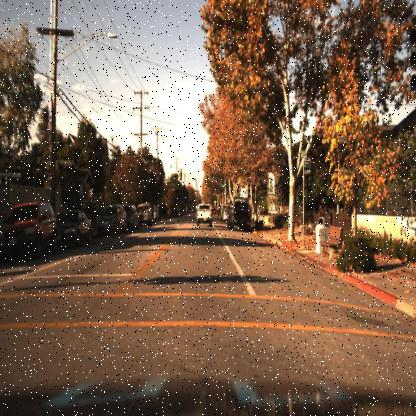car: (1, 200, 57, 266), (52, 206, 96, 256), (52, 208, 92, 247), (93, 200, 130, 242), (96, 197, 124, 235), (226, 198, 256, 232), (193, 193, 214, 231), (134, 199, 155, 224), (139, 200, 156, 228), (123, 203, 138, 234), (126, 202, 140, 234), (224, 203, 233, 228)
